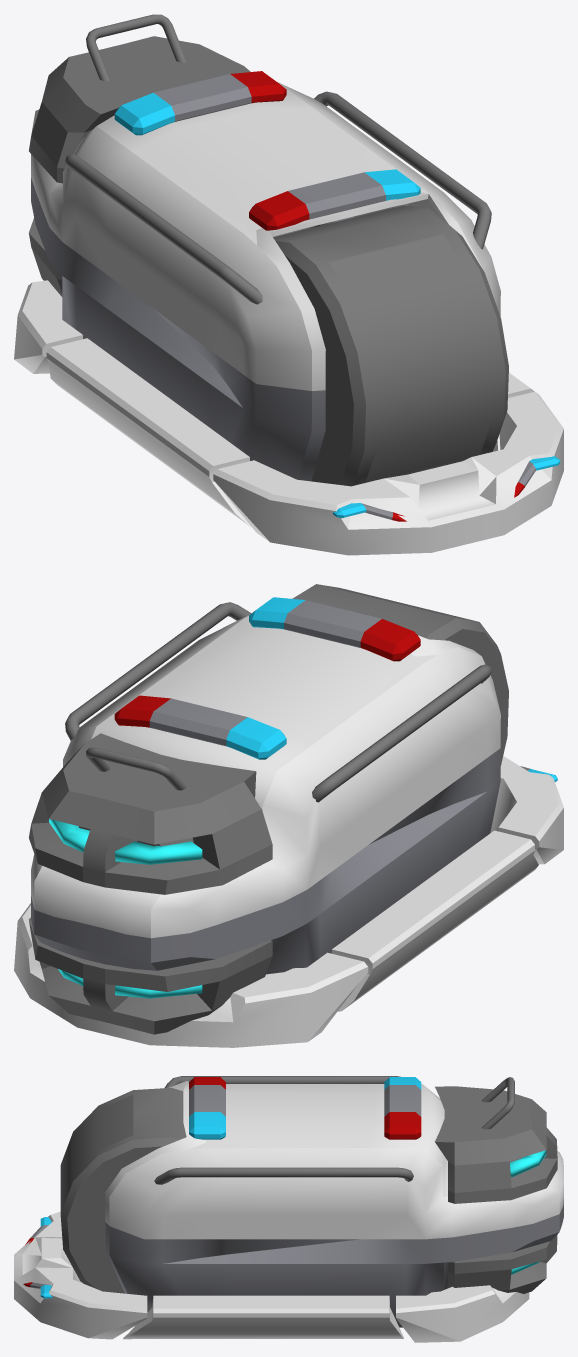
The model's file is Car_2.fbx.
The picture shows the model from 3 angles, top to bottom: view 1: azimuth 30°, elevation 25°; view 2: azimuth 150°, elevation 25°; view 3: azimuth 270°, elevation 25°; orthographic projection. The views are drawn at different scales.
Visible parts, largest first — view 1: pattyWagon02_geo1, pattyWagon11_geo, pattyWagon13_geo, pattyWagon14_geo, pattyWagon07_geo, pattyWagon01_geo, pattyWagon16_geo, pattyWagon06_geo, pattyWagon05_geo, pattyWagon09_geo, pattyWagon20_geo, pattyWagon03_geo; view 2: pattyWagon02_geo1, pattyWagon01_geo, pattyWagon09_geo, pattyWagon20_geo, pattyWagon07_geo, pattyWagon16_geo, pattyWagon14_geo, pattyWagon06_geo, pattyWagon05_geo, pattyWagon11_geo; view 3: pattyWagon02_geo1, pattyWagon01_geo, pattyWagon10_geo, pattyWagon14_geo, pattyWagon11_geo, pattyWagon09_geo, pattyWagon16_geo, pattyWagon20_geo, pattyWagon13_geo, pattyWagon06_geo, pattyWagon05_geo.
Part boxes in pixels (<box>): pattyWagon02_geo1: <box>31,82,500,481</box>; pattyWagon11_geo: <box>213,392,563,555</box>; pattyWagon13_geo: <box>329,234,493,482</box>; pattyWagon14_geo: <box>273,205,508,486</box>; pattyWagon07_geo: <box>46,338,251,527</box>; pattyWagon01_geo: <box>29,36,250,183</box>; pattyWagon16_geo: <box>65,14,491,304</box>; pattyWagon06_geo: <box>114,71,286,135</box>; pattyWagon05_geo: <box>249,169,420,230</box>; pattyWagon09_geo: <box>14,280,82,373</box>; pattyWagon20_geo: <box>29,218,62,296</box>; pattyWagon03_geo: <box>333,503,406,521</box>; pattyWagon02_geo1: <box>31,614,500,974</box>; pattyWagon01_geo: <box>29,733,272,894</box>; pattyWagon09_geo: <box>14,903,368,1047</box>; pattyWagon20_geo: <box>28,917,272,1034</box>; pattyWagon07_geo: <box>331,830,538,1011</box>; pattyWagon16_geo: <box>65,602,491,802</box>; pattyWagon14_geo: <box>292,584,508,765</box>; pattyWagon06_geo: <box>114,695,286,759</box>; pattyWagon05_geo: <box>249,597,420,661</box>; pattyWagon11_geo: <box>490,756,563,864</box>; pattyWagon02_geo1: <box>105,1081,563,1327</box>; pattyWagon01_geo: <box>435,1086,557,1203</box>; pattyWagon10_geo: <box>123,1295,403,1339</box>; pattyWagon14_geo: <box>60,1087,185,1312</box>; pattyWagon11_geo: <box>14,1211,147,1339</box>; pattyWagon09_geo: <box>396,1285,529,1342</box>; pattyWagon16_geo: <box>154,1076,514,1184</box>; pattyWagon20_geo: <box>446,1234,557,1293</box>; pattyWagon13_geo: <box>60,1095,133,1209</box>; pattyWagon06_geo: <box>384,1077,421,1139</box>; pattyWagon05_geo: <box>189,1077,225,1139</box>.
Bounding box in the file's own units: 369 × 320 × 743.
